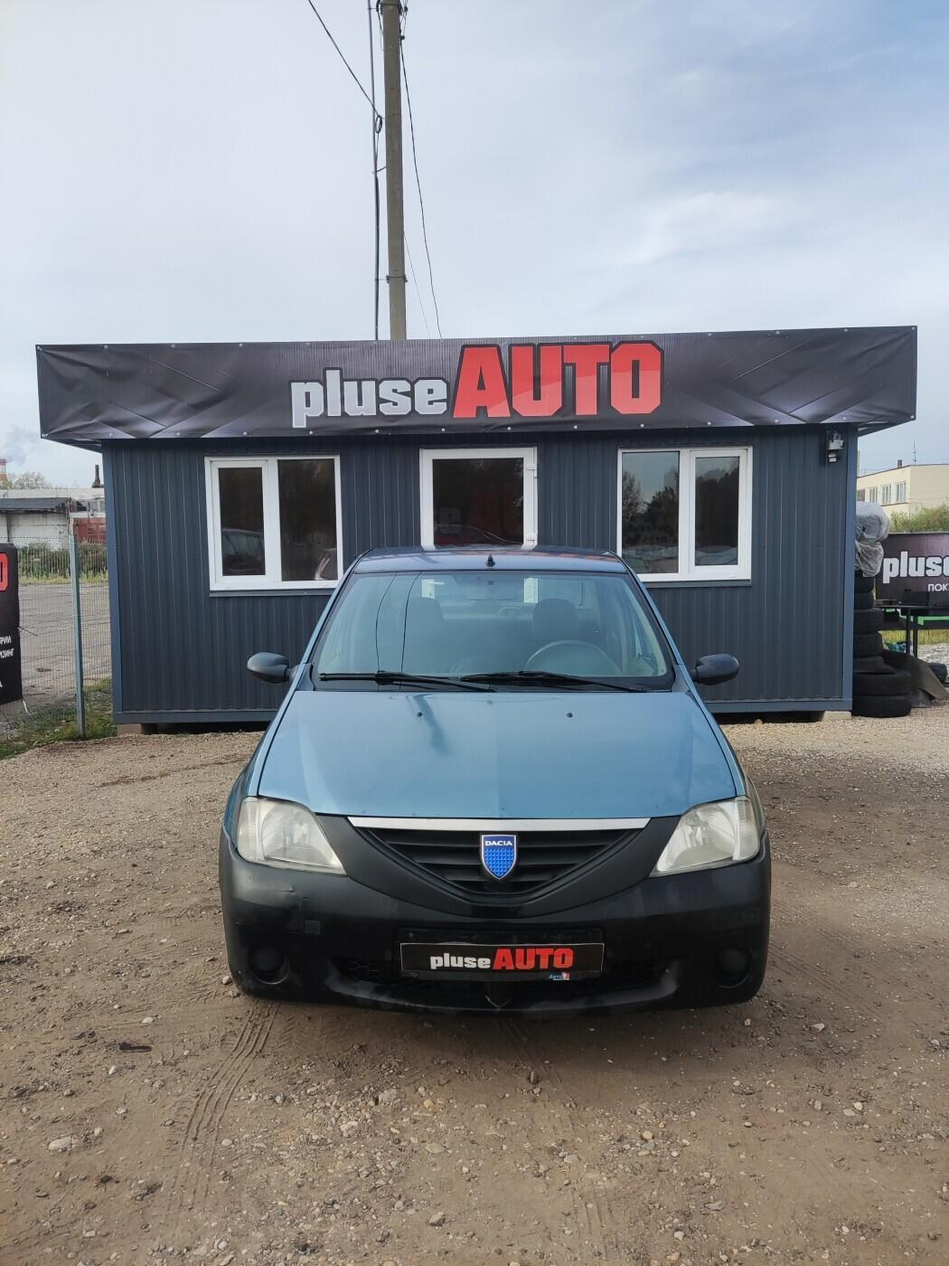Logan_2004-2009: (213, 543, 781, 1036)
